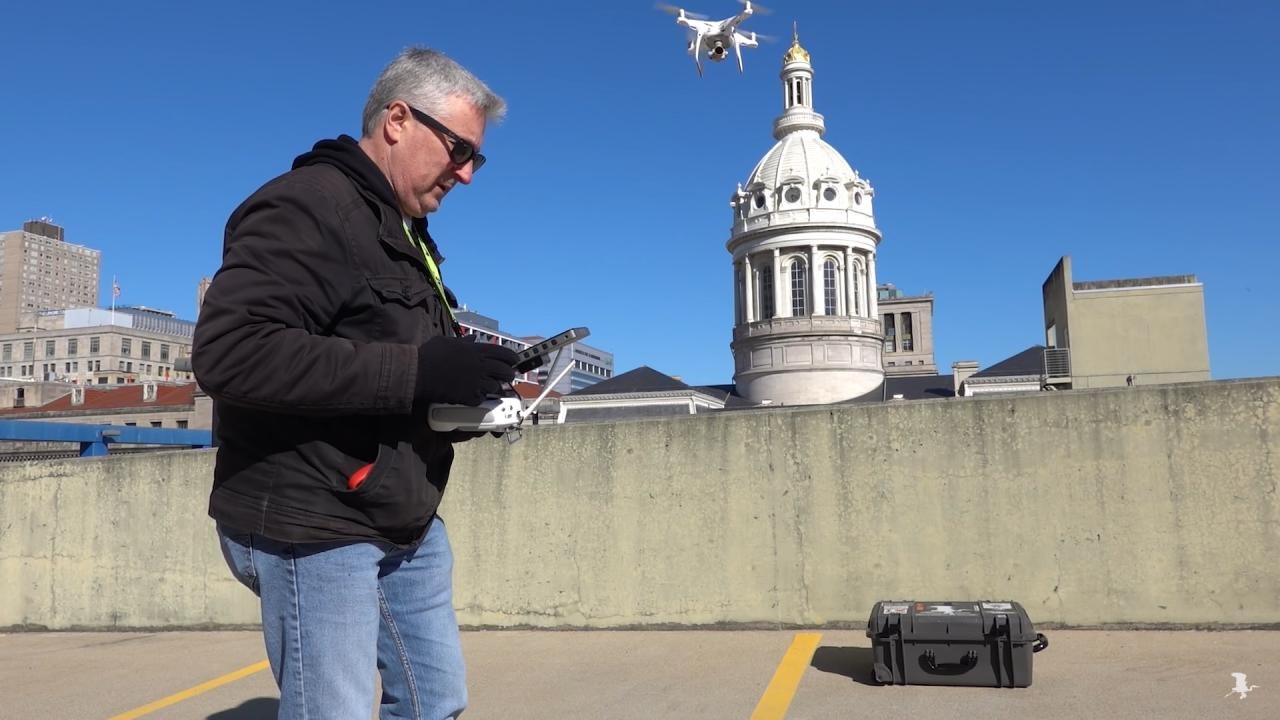Drone: (650, 0, 789, 86)
